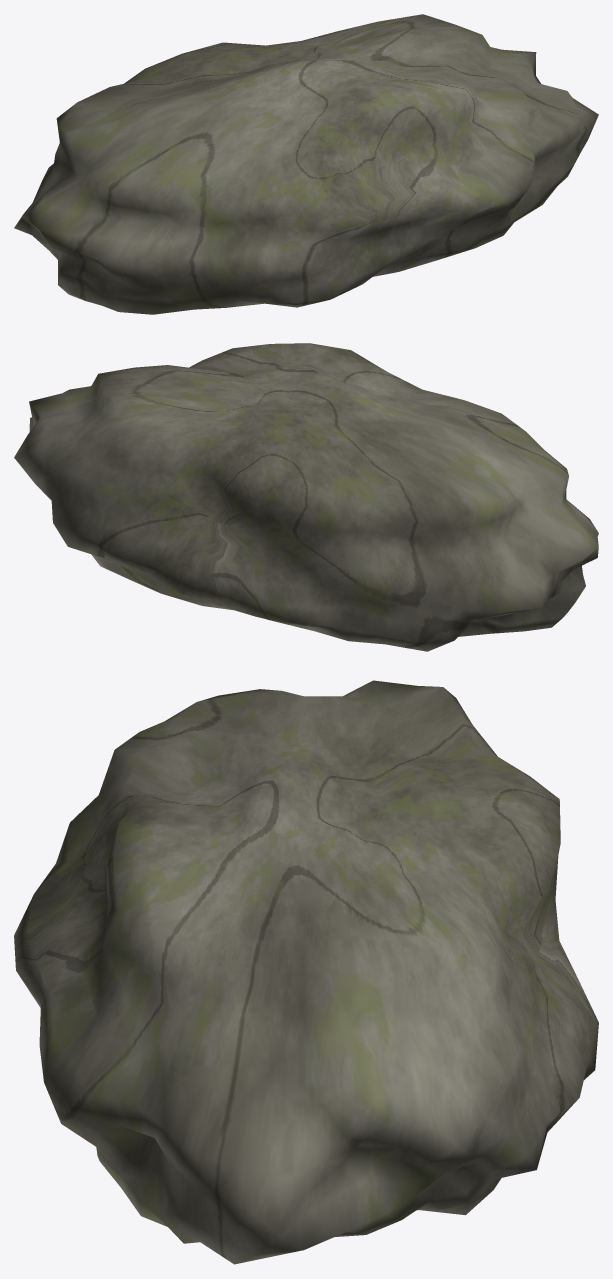
Rendered from garden-rock-2.glb.
3 renders of one model, top to bottom at view 1: azimuth 30°, elevation 25°; view 2: azimuth 150°, elevation 25°; view 3: azimuth 270°, elevation 25°, orthographic. The views are drawn at different scales.
Parts seen in each view (by area): view 1: Eroded stone with mineral texture; view 2: Eroded stone with mineral texture; view 3: Eroded stone with mineral texture.
Part boxes in pixels (x1,y1,x2,y2): Eroded stone with mineral texture: (14, 14, 598, 314); Eroded stone with mineral texture: (14, 343, 598, 651); Eroded stone with mineral texture: (14, 680, 598, 1264).
Size of the model in its own units: 2.87 by 0.9013 by 1.55.
1 material, 1 textured.
